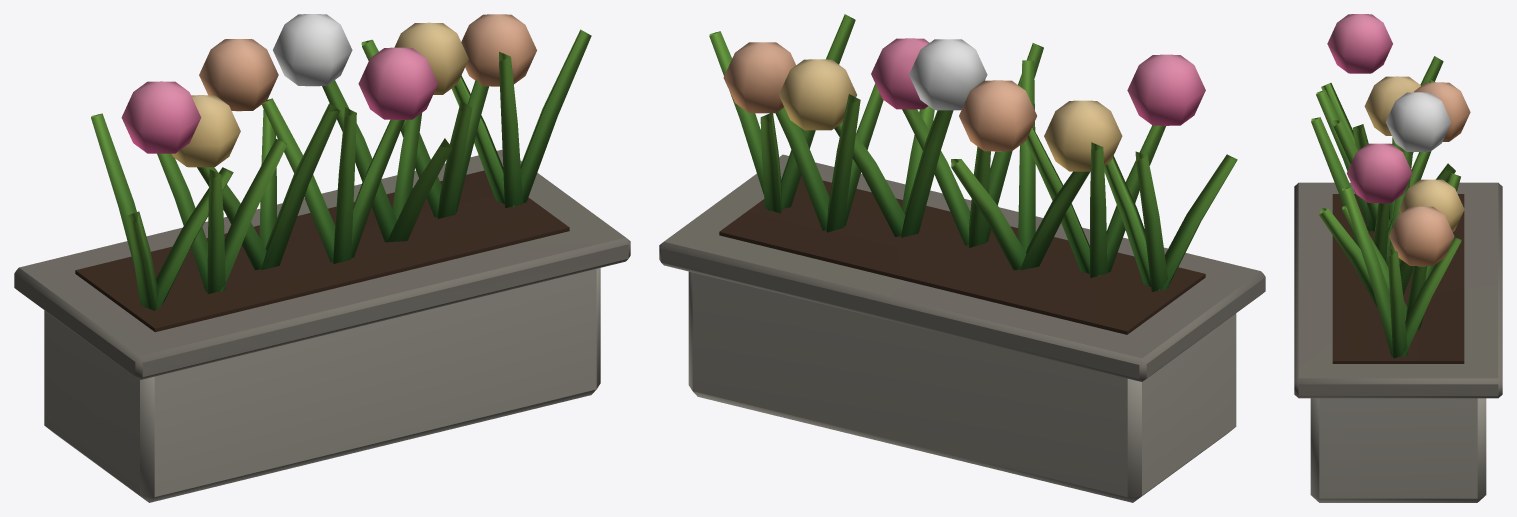
The model's file is jardinera.glb.
The picture shows the model from 3 angles, left to right: view 1: azimuth 30°, elevation 25°; view 2: azimuth 150°, elevation 25°; view 3: azimuth 270°, elevation 25°; orthographic projection. The views are drawn at different scales.
Parts seen in each view (by area): view 1: jardinera; view 2: jardinera; view 3: jardinera.
Part boxes in pixels (bbox=[...]): jardinera: bbox=[14, 14, 630, 502]; jardinera: bbox=[659, 14, 1265, 502]; jardinera: bbox=[1294, 14, 1502, 502].
Bounding box in the file's own units: 2.22 × 1.64 × 0.95.
